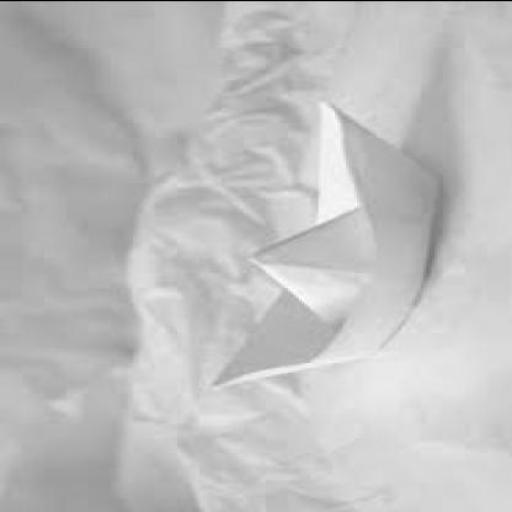paper: (0, 1, 512, 511), (207, 102, 440, 390)
